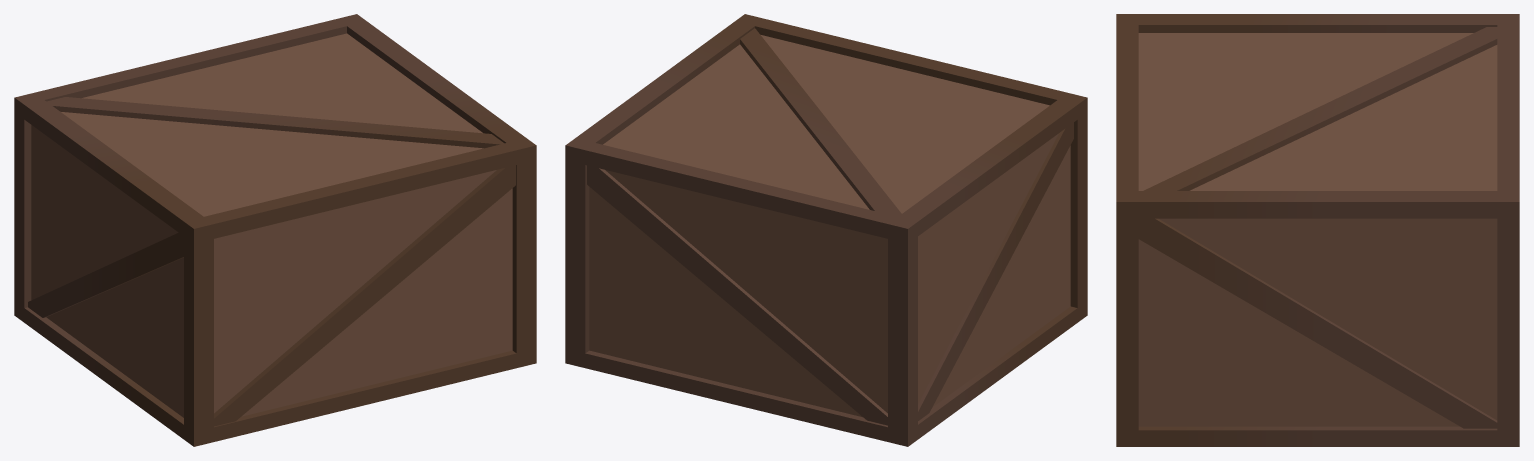
The model's file is Box Medium.glb.
3 renders of one model, left to right at view 1: azimuth 30°, elevation 25°; view 2: azimuth 150°, elevation 25°; view 3: azimuth 270°, elevation 25°, orthographic. The views are drawn at different scales.
Parts seen in each view (by area): view 1: Box Medium; view 2: Box Medium; view 3: Box Medium.
Boxes of the visible parts, x1,y1,x2,y2 form: Box Medium: [14, 14, 536, 446]; Box Medium: [565, 14, 1087, 446]; Box Medium: [1116, 14, 1519, 446].
Size of what is drawn, in the model's own units: 0.741 by 0.4507 by 0.6726.
Materials: 1 (1 with a texture image).
